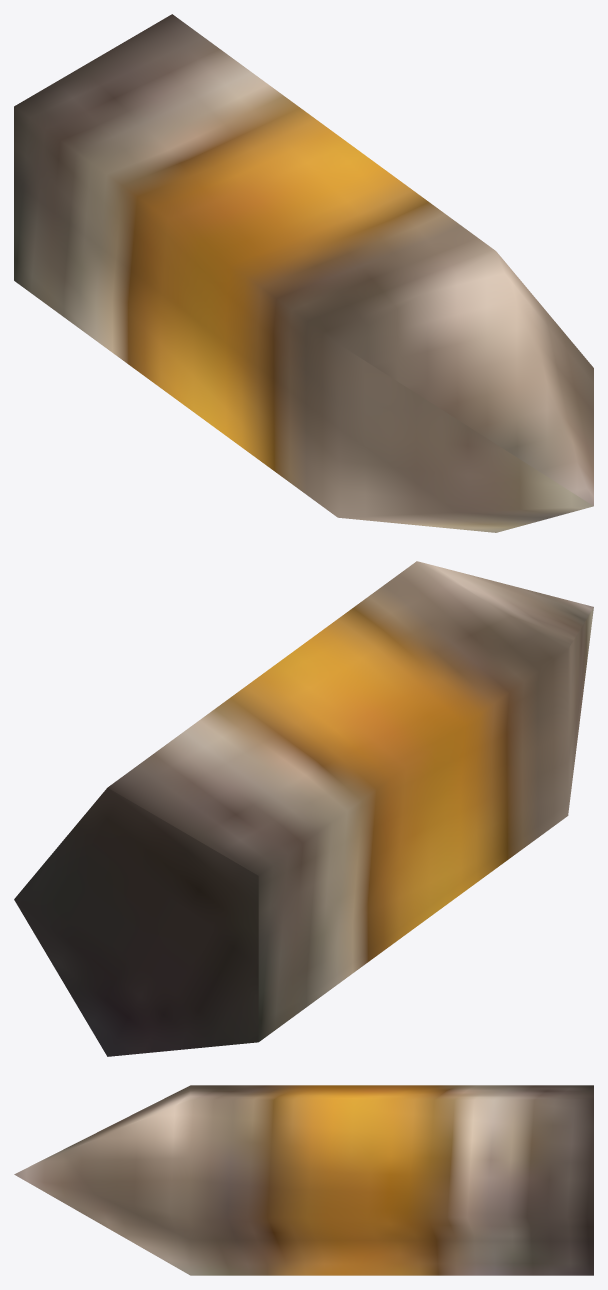
Rendered from Projectile - Shell Cannon-CF--219W.glb.
The picture shows the model from 3 angles, top to bottom: view 1: azimuth 30°, elevation 25°; view 2: azimuth 150°, elevation 25°; view 3: azimuth 270°, elevation 25°; orthographic projection. The views are drawn at different scales.
Parts seen in each view (by area): view 1: Projectile_Shell_Cannon_Geom; view 2: Projectile_Shell_Cannon_Geom; view 3: Projectile_Shell_Cannon_Geom.
Boxes of the visible parts, box(x1,y1,x2,y2) form: Projectile_Shell_Cannon_Geom: box(14, 14, 593, 532); Projectile_Shell_Cannon_Geom: box(14, 561, 593, 1056); Projectile_Shell_Cannon_Geom: box(14, 1085, 593, 1275).
Size of the model in its own units: 0.2762 by 0.2904 by 0.8692.
Materials: 1 (1 with a texture image).
